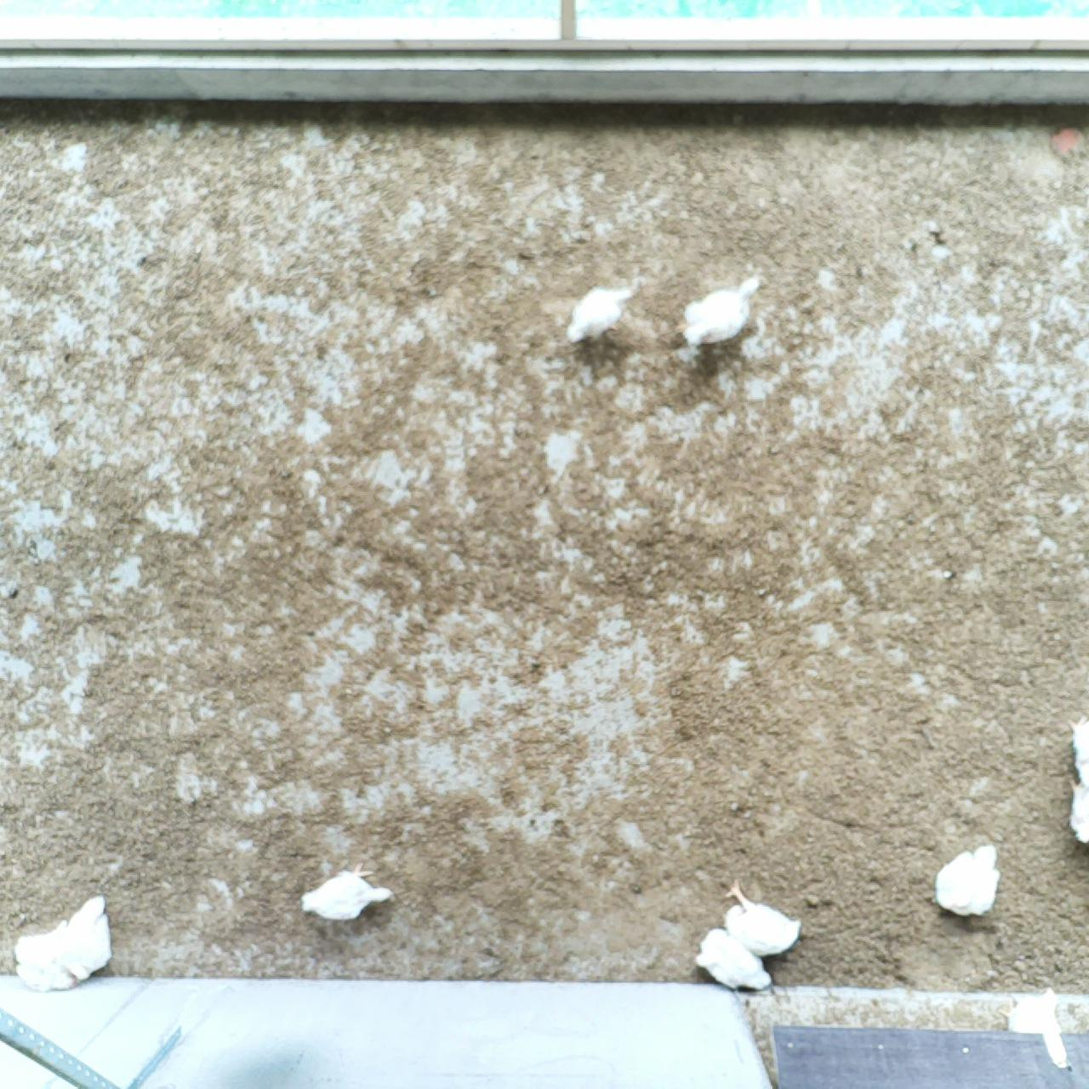chicken: (679, 267, 767, 348), (40, 891, 118, 982), (719, 879, 806, 958), (298, 860, 393, 924), (930, 840, 1006, 919), (690, 926, 776, 995), (10, 916, 84, 993), (563, 281, 636, 345), (1063, 710, 1089, 792), (1068, 778, 1089, 847)
